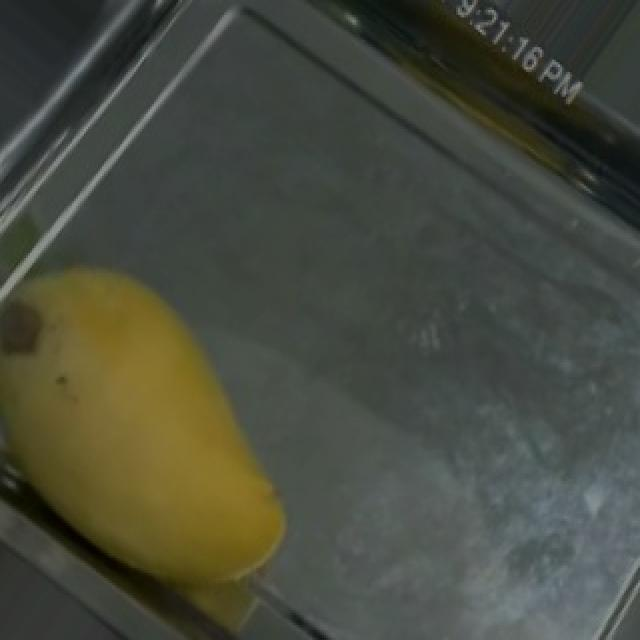fruit: (4, 211, 330, 598)
